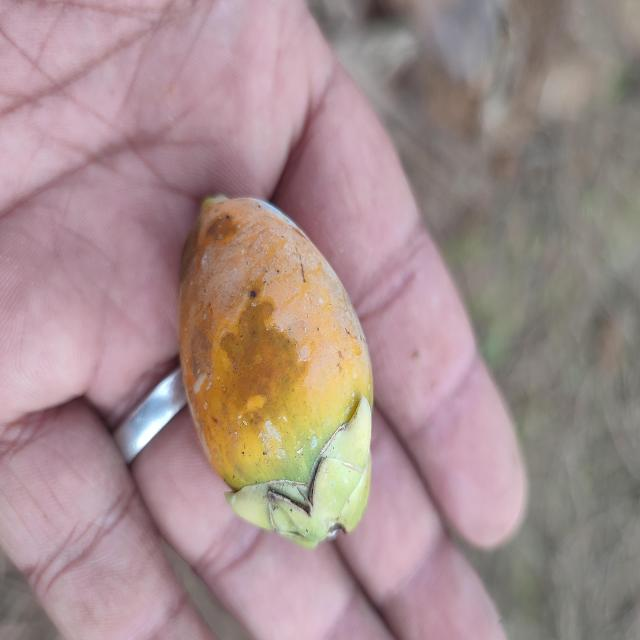good: (177, 196, 375, 550)
